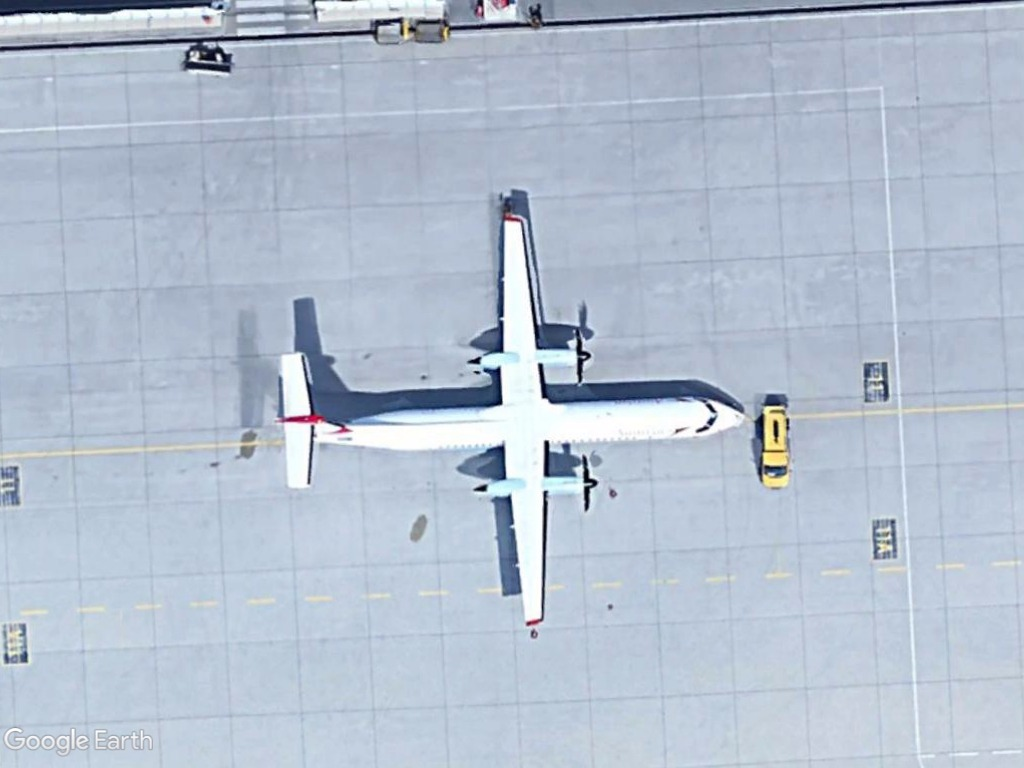propeller: (256, 192, 754, 643)
van: (751, 396, 798, 494)
